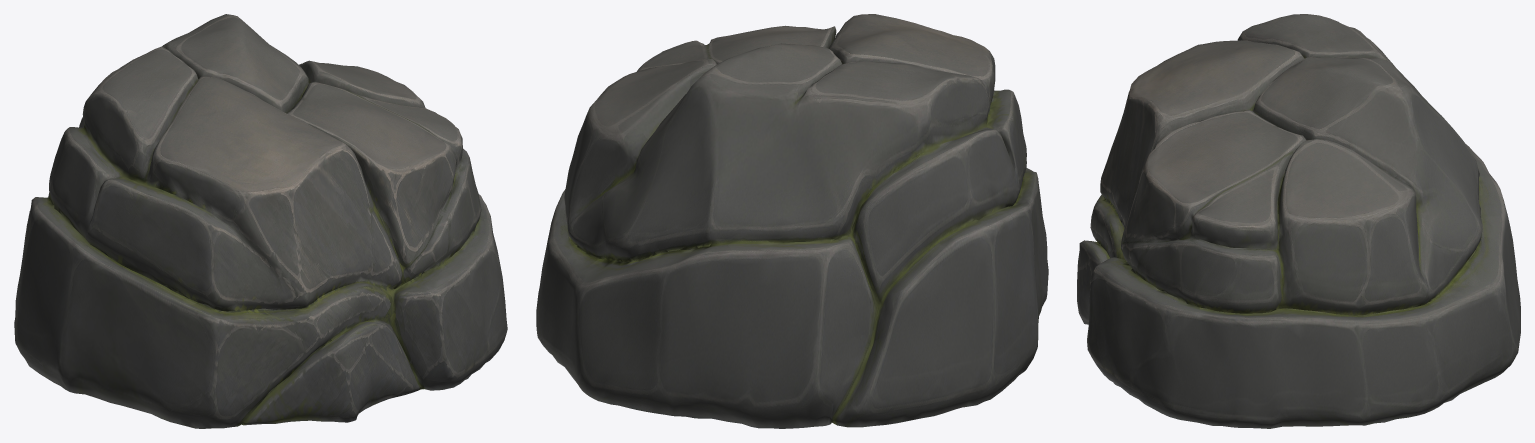
Rendered from boulder_xl.glb.
3 renders of one model, left to right at view 1: azimuth 30°, elevation 25°; view 2: azimuth 150°, elevation 25°; view 3: azimuth 270°, elevation 25°, orthographic. The views are drawn at different scales.
Parts seen in each view (by area): view 1: BOULDER_XL; view 2: BOULDER_XL; view 3: BOULDER_XL.
Boxes of the visible parts, left/top/right/bottom form: BOULDER_XL: left=14, top=14, right=507, bottom=428; BOULDER_XL: left=536, top=14, right=1048, bottom=428; BOULDER_XL: left=1077, top=14, right=1520, bottom=428.
Size of the model in its own units: 1.93 by 1.25 by 1.87.
1 material, 1 textured.
